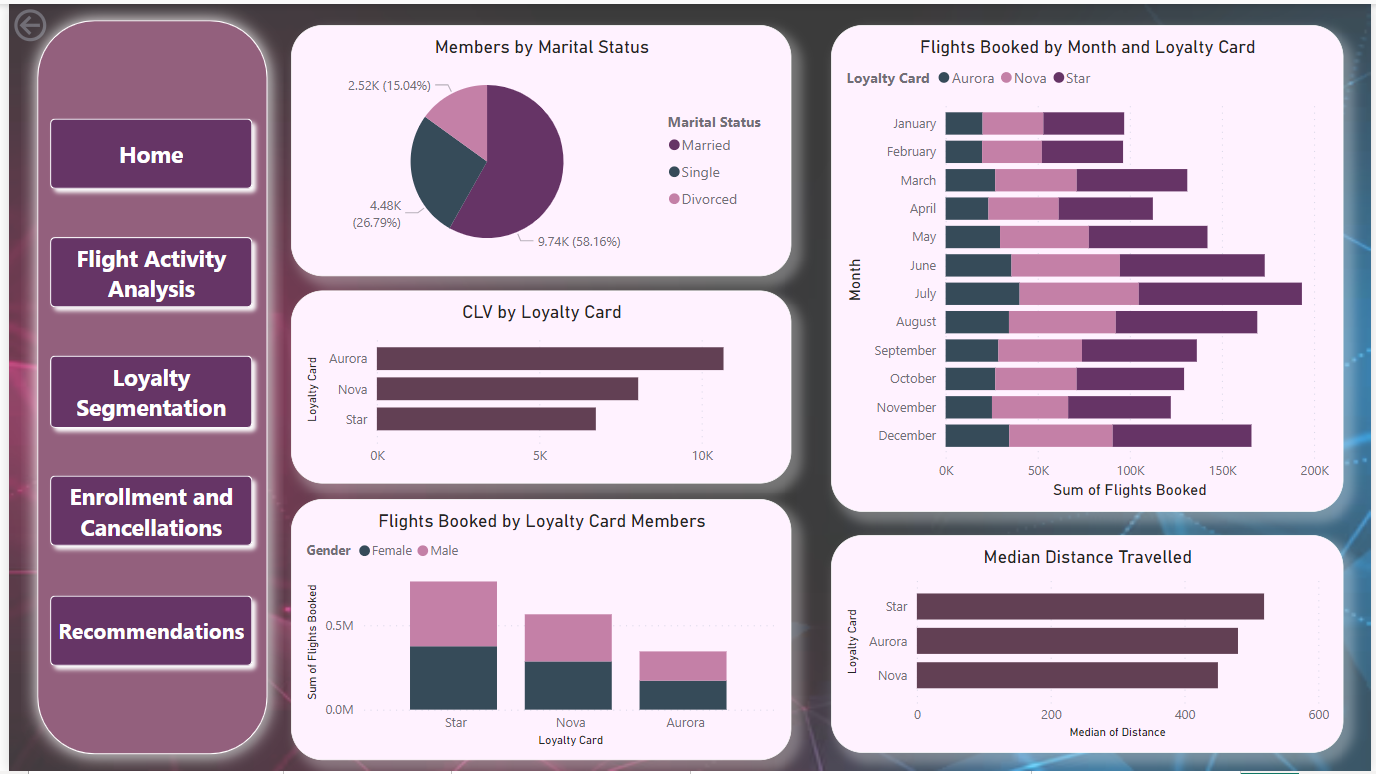

The dashboard page shown, as its layout file describes it:
{"tool":"powerbi","page":{"name":"Loyalty Segmentation","canvas":[1280,720],"ordinal":2},"visuals":[{"type":"actionButton","box":[0,0,100,40],"z":1000},{"type":"columnChart","title":"Flights Booked by Loyalty Card Members","fields":{"Y":["Sum(Customer Flight Activity.Flights Booked)"],"Series":["Customer Loyalty History.Gender"],"Category":["Customer Loyalty History.Loyalty Card"]},"box":[265.5,465.4,470.1,245.2],"z":7000},{"type":"pieChart","title":"Members by Marital Status","fields":{"Y":["CountNonNull(Customer Loyalty History.Loyalty Number)"],"Category":["Customer Loyalty History.Marital Status"]},"box":[265.5,20.3,470.1,235.8],"z":8000},{"type":"barChart","title":"Flights Booked by Month and Loyalty Card","fields":{"Series":["Customer Loyalty History.Loyalty Card"],"Y":["Sum(Customer Flight Activity.Flights Booked)"],"Category":["Customer Flight Activity.Month Name.Variation.Date Hierarchy.Month"]},"box":[771.5,20.3,481,457.6],"z":10000},{"type":"clusteredBarChart","title":"Median Distance Travelled","fields":{"Y":["Median(Customer Flight Activity.Distance)"],"Category":["Customer Loyalty History.Loyalty Card"]},"box":[771.5,498.2,481,204.6],"z":11000},{"type":"clusteredBarChart","title":"CLV by Loyalty Card","fields":{"Category":["Customer Loyalty History.Loyalty Card"],"Y":["Avg(Customer Loyalty History.CLV)"]},"box":[265.5,268.6,470.1,181.2],"z":12000},{"type":"shape","box":[10.9,0,246.8,720],"z":12001},{"type":"shape","box":[30,209.5,208,84],"z":12002},{"type":"shape","box":[30,434.5,208,84],"z":12003},{"type":"shape","box":[30,321,208,86],"z":12004},{"type":"shape","box":[30,546,208,84],"z":12005},{"type":"shape","box":[30,98,208,84],"z":12006}]}

Visuals, with their boxes in screenshot pixels (x1, y1, x2, y2), scaled from the page's 1280x720 canvas onto the 1376x774 screenshot:
actionButton: <bbox>0, 0, 108, 43</bbox>
"Flights Booked by Loyalty Card Members" columnChart: <bbox>285, 500, 791, 764</bbox>
"Members by Marital Status" pieChart: <bbox>285, 22, 791, 275</bbox>
"Flights Booked by Month and Loyalty Card" barChart: <bbox>829, 22, 1346, 514</bbox>
"Median Distance Travelled" clusteredBarChart: <bbox>829, 536, 1346, 756</bbox>
"CLV by Loyalty Card" clusteredBarChart: <bbox>285, 289, 791, 484</bbox>
shape: <bbox>12, 0, 277, 773</bbox>
shape: <bbox>32, 225, 256, 316</bbox>
shape: <bbox>32, 467, 256, 557</bbox>
shape: <bbox>32, 345, 256, 438</bbox>
shape: <bbox>32, 587, 256, 677</bbox>
shape: <bbox>32, 105, 256, 196</bbox>
